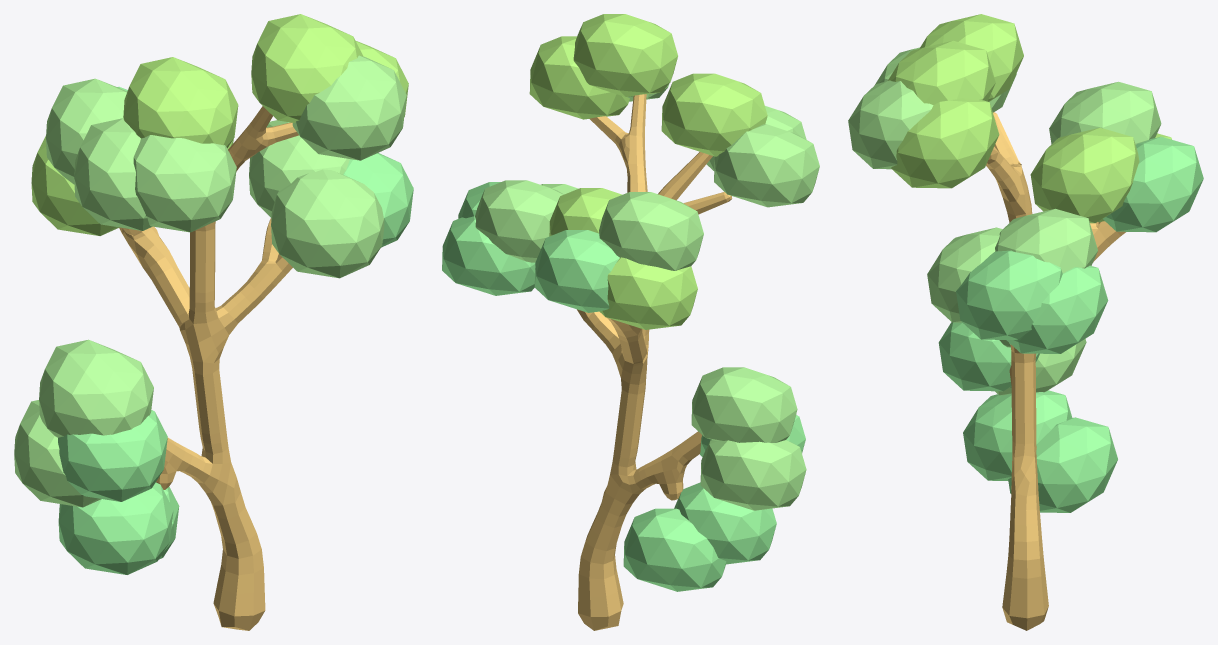
File: tree54.gltf
The picture shows the model from 3 angles, left to right: view 1: azimuth 30°, elevation 25°; view 2: azimuth 150°, elevation 25°; view 3: azimuth 270°, elevation 25°; orthographic projection. The views are drawn at different scales.
Parts seen in each view (by area): view 1: Cube, Icosphere.012, Icosphere.013, Icosphere.007, Icosphere.005, Icosphere.006, Icosphere.008, Icosphere.014, Icosphere.011, Icosphere.001, Icosphere.003, Icosphere.016 (+4 smaller); view 2: Cube, Icosphere.006, Icosphere.013, Icosphere.001, Icosphere.008, Icosphere.003, Icosphere.016, Icosphere.015, Icosphere.017, Icosphere, Icosphere.010, Icosphere.014 (+5 smaller); view 3: Cube, Icosphere.009, Icosphere.002, Icosphere.004, Icosphere.015, Icosphere.017, Icosphere.018, Icosphere.006, Icosphere.014, Icosphere.003, Icosphere.005, Icosphere.010 (+4 smaller).
Part boxes in pixels (x1,y1,x2,y2): Cube: (119, 106, 298, 630); Icosphere.012: (271, 169, 384, 278); Icosphere.013: (39, 339, 153, 437); Icosphere.007: (133, 135, 236, 232); Icosphere.005: (292, 55, 406, 160); Icosphere.006: (251, 14, 363, 122); Icosphere.008: (123, 57, 238, 148); Icosphere.014: (58, 482, 173, 574); Icosphere.011: (58, 410, 167, 501); Icosphere.001: (74, 118, 152, 230); Icosphere.003: (46, 78, 127, 184); Icosphere.016: (14, 400, 101, 507); Cube: (577, 94, 732, 630); Icosphere.006: (573, 14, 677, 96); Icosphere.013: (691, 367, 797, 442); Icosphere.001: (714, 124, 819, 207); Icosphere.008: (661, 73, 767, 156); Icosphere.003: (599, 192, 703, 270); Icosphere.016: (700, 440, 806, 510); Icosphere.015: (623, 508, 726, 591); Icosphere.017: (534, 230, 619, 312); Icosphere: (599, 257, 697, 329); Icosphere.010: (475, 180, 563, 262); Icosphere.014: (674, 482, 776, 564); Cube: (986, 112, 1125, 630); Icosphere.009: (1030, 127, 1139, 223); Icosphere.002: (891, 98, 999, 188); Icosphere.004: (956, 250, 1062, 339); Icosphere.015: (1008, 417, 1117, 512); Icosphere.017: (1103, 136, 1203, 232); Icosphere.018: (1006, 265, 1108, 353); Icosphere.006: (888, 40, 995, 104); Icosphere.014: (963, 390, 1072, 480); Icosphere.003: (1049, 81, 1161, 144); Icosphere.005: (848, 80, 933, 169); Icosphere.010: (995, 208, 1097, 273).
Size of the model in its own units: 4.88 by 7.87 by 4.3.
